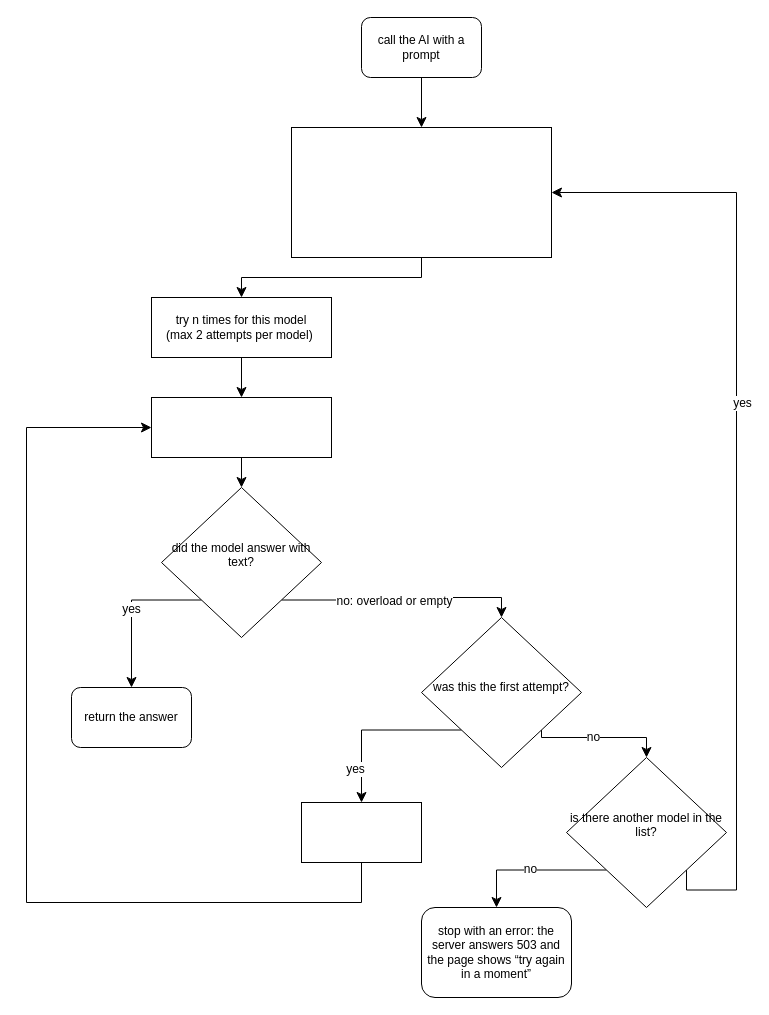
The diagram is 769 pixels wide and 1015 high, and some of its shapes have lost their labels. Each missing label, with the centre of its shape:
"send the request (each request waits at most 120 s)" goes at (x=241, y=427).
"take the next model from the list (Nvidia, Google 31B, Google 26B)" goes at (x=421, y=192).
"wait 2 seconds and try again" goes at (x=361, y=832).
